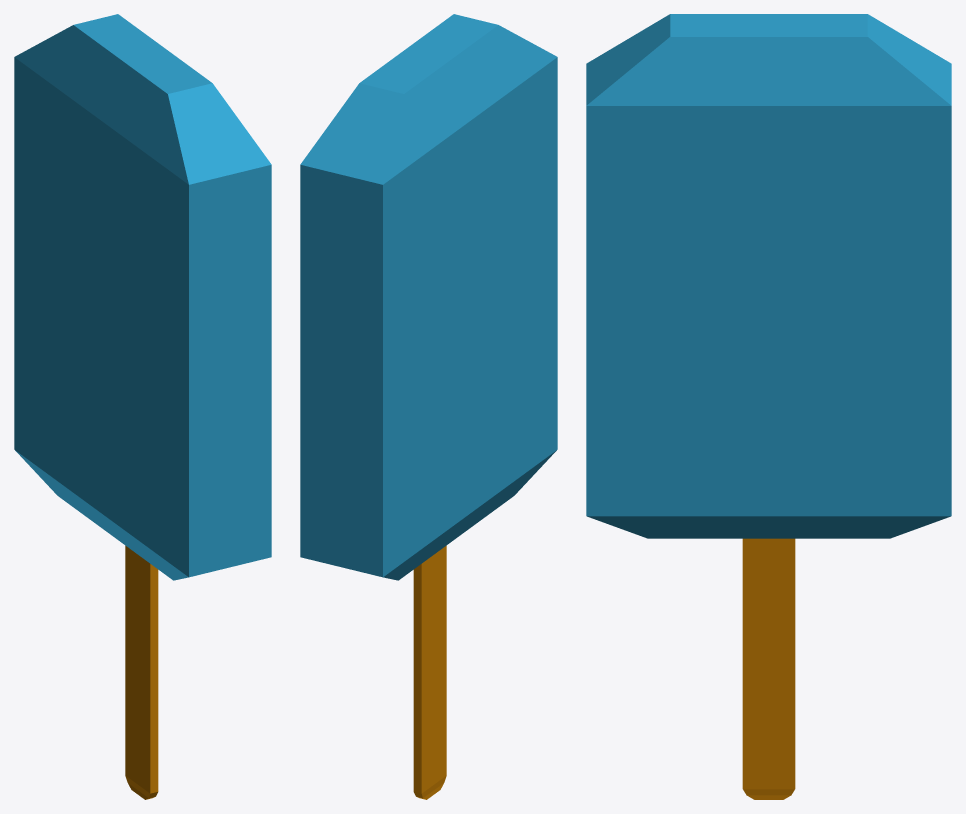
Rendered from Popsicle.fbx.
The picture shows the model from 3 angles, left to right: view 1: azimuth 30°, elevation 25°; view 2: azimuth 150°, elevation 25°; view 3: azimuth 270°, elevation 25°; orthographic projection. The views are drawn at different scales.
Parts seen in each view (by area): view 1: Cube; view 2: Cube; view 3: Cube.
Boxes of the visible parts, x1,y1,x2,y2 form: Cube: (14,14,271,799); Cube: (300,14,557,799); Cube: (586,14,951,799).
Size of the model in its own units: 277 by 2366 by 1013.
